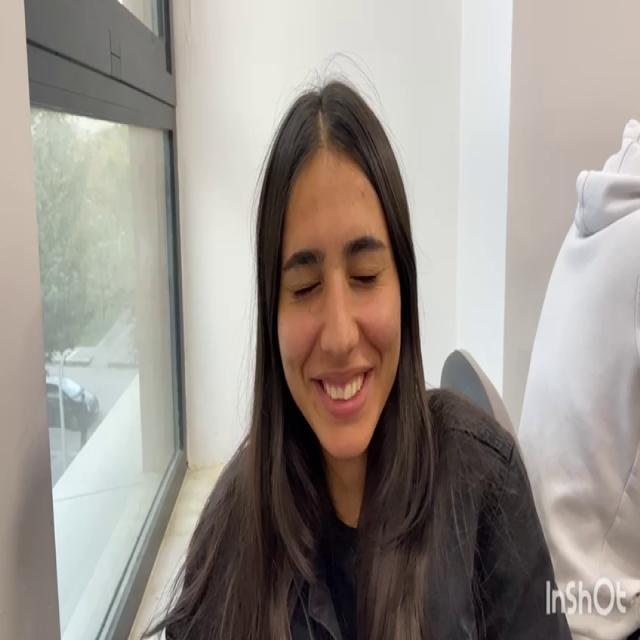happy: (276, 145, 395, 464)
